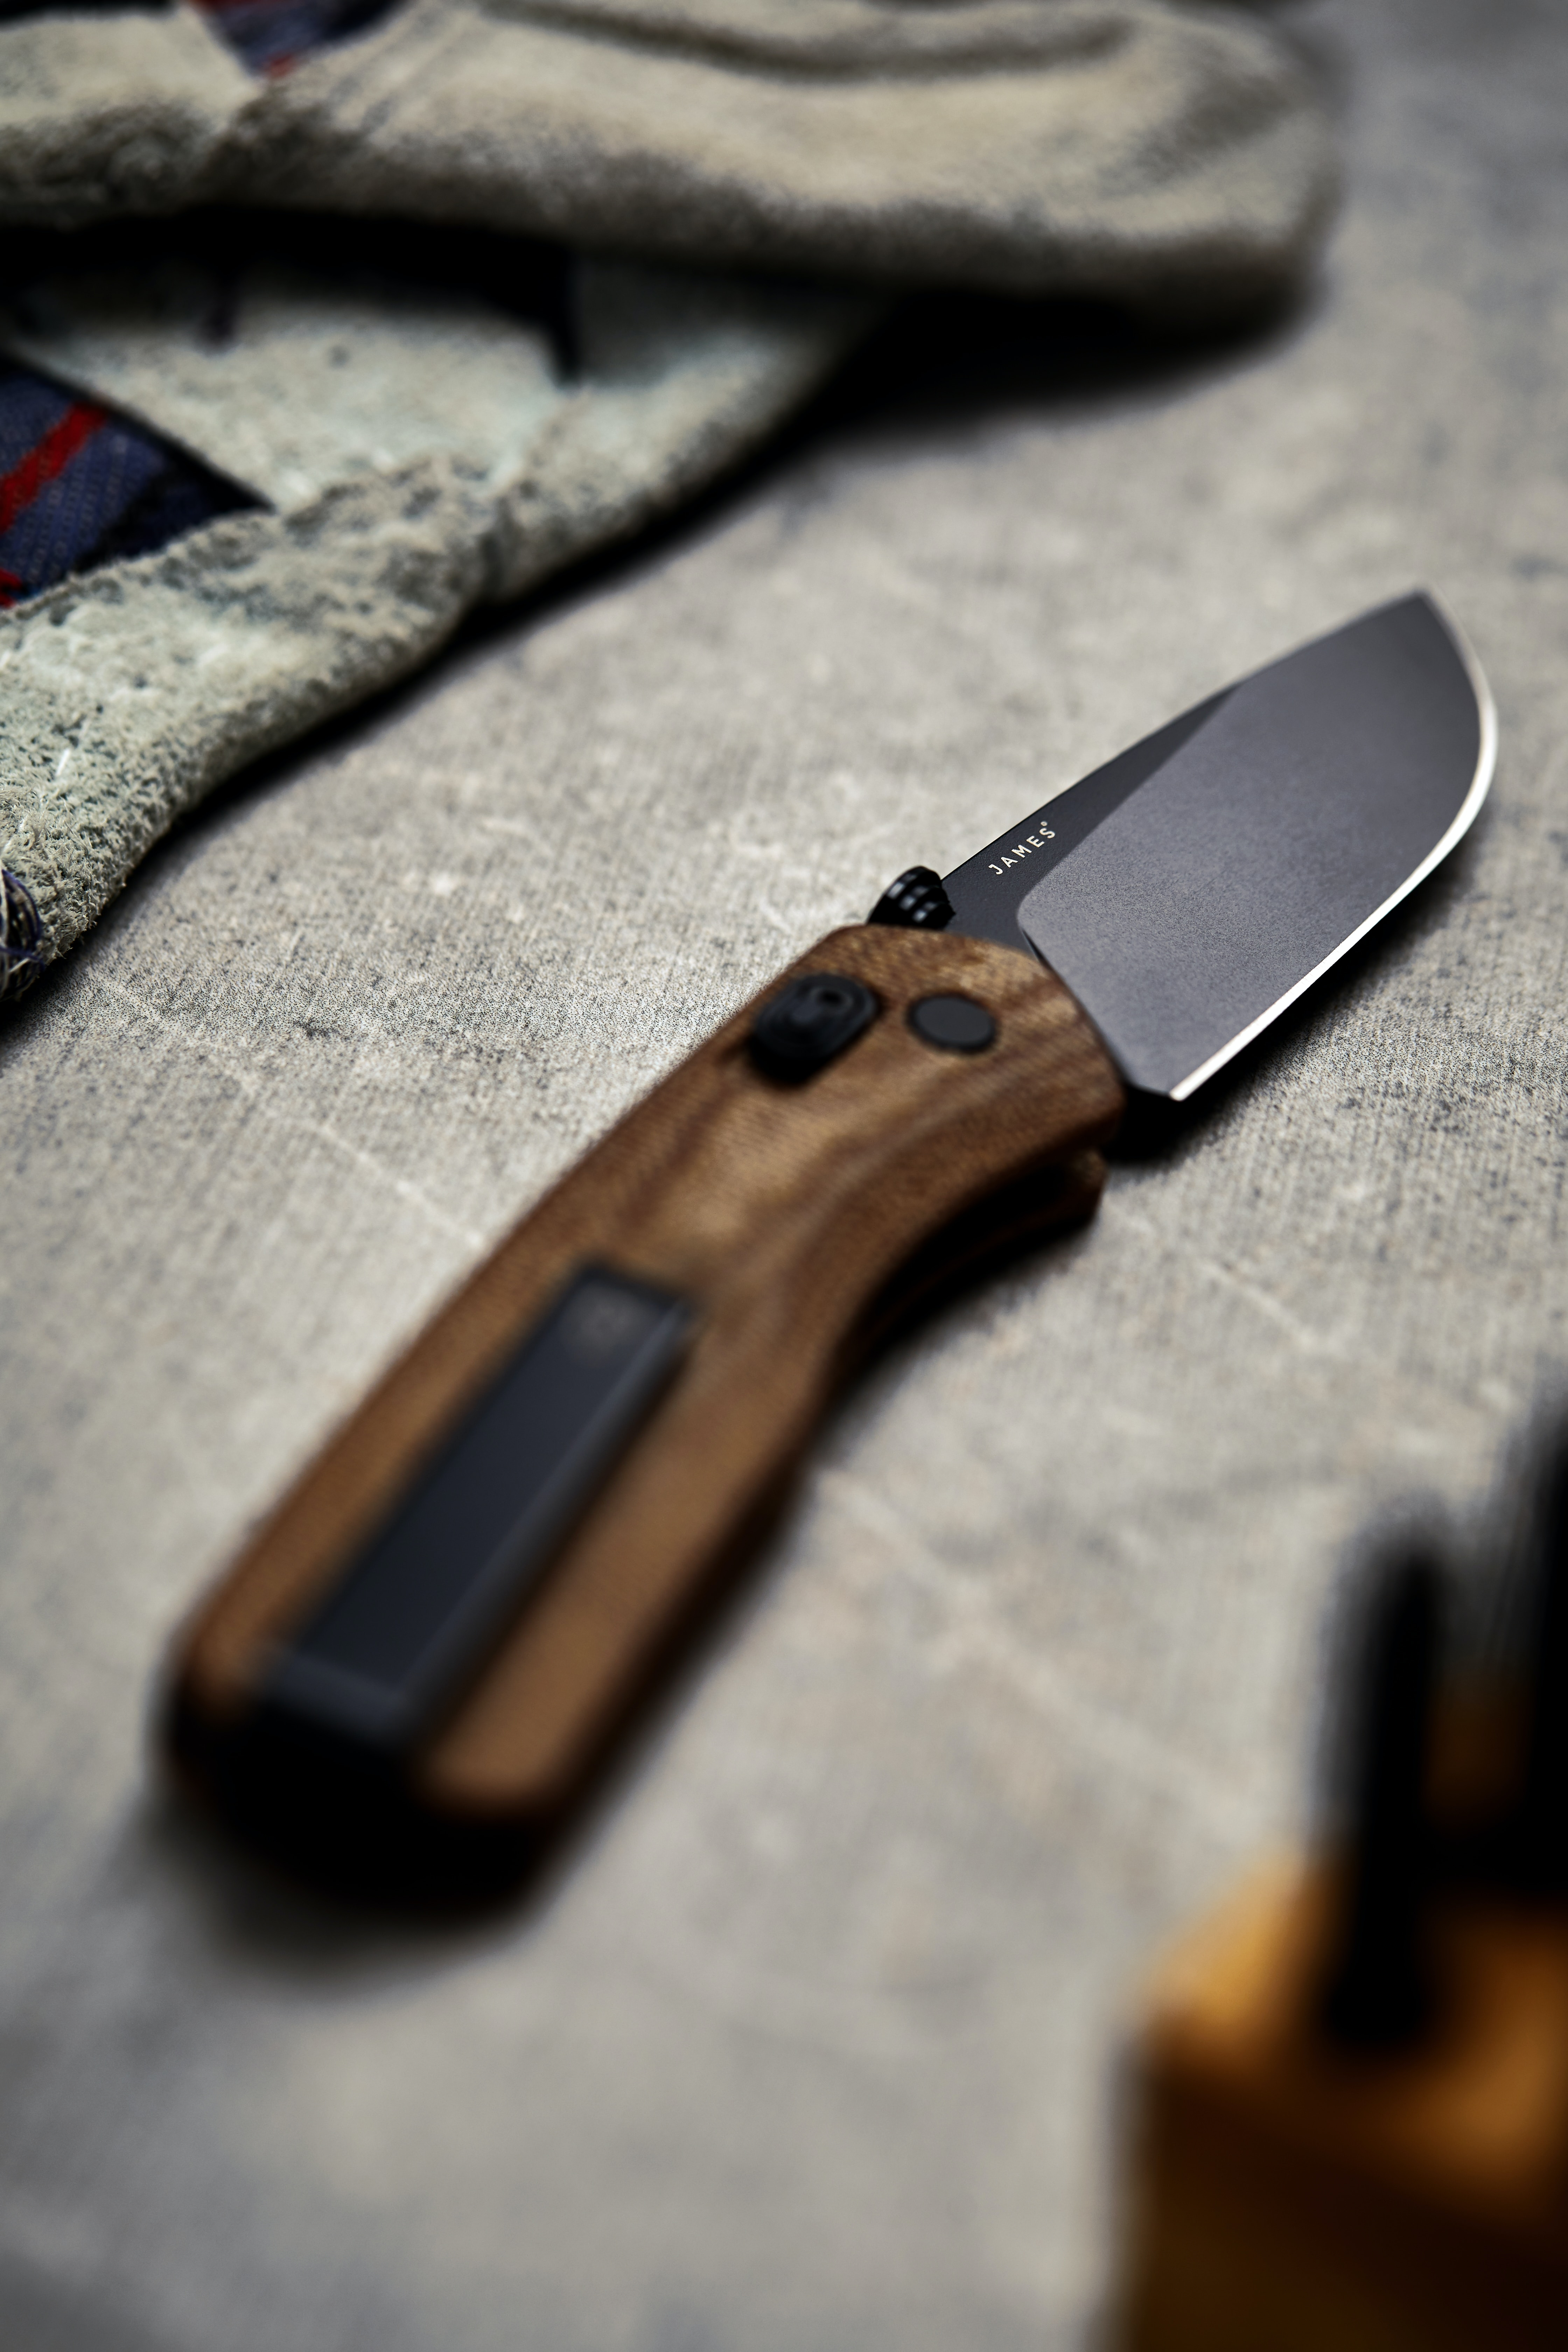knife: (145, 560, 1510, 1850)
